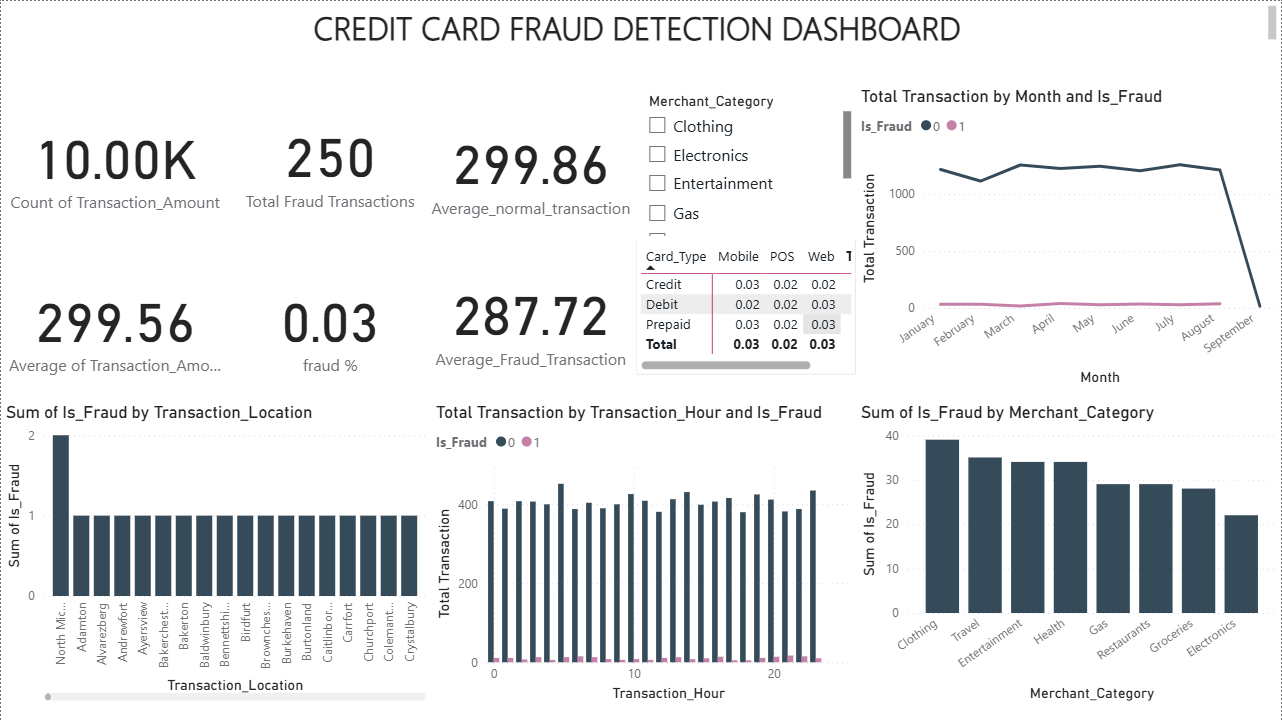

The dashboard page shown, as its layout file describes it:
{"tool":"powerbi","page":{"name":"Page 1","canvas":[1280,720],"ordinal":0},"visuals":[{"type":"card","fields":{"Values":["CountNonNull(credit_card_transactions.Transaction_Amount)"]},"box":[0,86.2,228.8,152.5],"z":0},{"type":"card","fields":{"Values":["credit_card_transactions.Total Fraud Transactions"]},"box":[228.8,85,201.2,152.5],"z":1000},{"type":"card","fields":{"Values":["credit_card_transactions.fraud %"]},"box":[228.8,250,201.2,151.2],"z":2000},{"type":"card","fields":{"Values":["Avg(credit_card_transactions.Transaction_Amount)"]},"box":[0,250,228.8,151.2],"z":3000},{"type":"columnChart","fields":{"Category":["credit_card_transactions.Merchant_Category"],"Y":["Sum(credit_card_transactions.Is_Fraud)"]},"box":[855,401.2,425,303.8],"z":4000},{"type":"lineChart","fields":{"Category":["credit_card_transactions.Transaction_Time.Variation.Date Hierarchy.Month","credit_card_transactions.Transaction_Time.Variation.Date Hierarchy.Day"],"Y":["credit_card_transactions.Total Transaction"],"Series":["credit_card_transactions.Is_Fraud"]},"box":[855,85,425,303.8],"z":5000},{"type":"lineClusteredColumnComboChart","fields":{"Category":["credit_card_transactions.Transaction_Hour"],"Y":["credit_card_transactions.Total Transaction"],"Series":["credit_card_transactions.Is_Fraud"]},"box":[430,401.2,425,303.8],"z":6000},{"type":"columnChart","fields":{"Category":["credit_card_transactions.Transaction_Location"],"Y":["Sum(credit_card_transactions.Is_Fraud)"]},"box":[0,401.2,430,303.8],"z":7000},{"type":"pivotTable","fields":{"Rows":["credit_card_transactions.Card_Type"],"Columns":["credit_card_transactions.Device_Type"],"Values":["credit_card_transactions.fraud %"]},"box":[635,238.8,220,135],"z":8000},{"type":"card","fields":{"Values":["credit_card_transactions.Average_normal_transaction"]},"box":[425,86.2,210,163.8],"z":8001},{"type":"card","fields":{"Values":["credit_card_transactions.Average_Fraud_Transaction"]},"box":[425,250,210,138.8],"z":8002},{"type":"slicer","fields":{"Values":["credit_card_transactions.Merchant_Category"]},"box":[635,86.2,220,153.8],"z":8003},{"type":"textbox","box":[0,0,1280,47.5],"z":8004}]}

Visuals, with their boxes in screenshot pixels (x1, y1, x2, y2), scaled from the page's 1280x720 canvas onto the 1282x720 screenshot:
card - CountNonNull(credit_card_transactions.Transaction_Amount): <box>0,86,229,239</box>
card - credit_card_transactions.Total Fraud Transactions: <box>229,85,431,238</box>
card - credit_card_transactions.fraud %: <box>229,250,431,401</box>
card - Avg(credit_card_transactions.Transaction_Amount): <box>0,250,229,401</box>
columnChart - credit_card_transactions.Merchant_Category x Sum(credit_card_transactions.Is_Fraud): <box>856,401,1281,705</box>
lineChart - credit_card_transactions.Transaction_Time.Variation.Date Hierarchy.Month x credit_card_transactions.Transaction_Time.Variation.Date Hierarchy.Day: <box>856,85,1281,389</box>
lineClusteredColumnComboChart - credit_card_transactions.Transaction_Hour x credit_card_transactions.Total Transaction: <box>431,401,856,705</box>
columnChart - credit_card_transactions.Transaction_Location x Sum(credit_card_transactions.Is_Fraud): <box>0,401,431,705</box>
pivotTable - credit_card_transactions.Card_Type x credit_card_transactions.Device_Type: <box>636,239,856,374</box>
card - credit_card_transactions.Average_normal_transaction: <box>426,86,636,250</box>
card - credit_card_transactions.Average_Fraud_Transaction: <box>426,250,636,389</box>
slicer - credit_card_transactions.Merchant_Category: <box>636,86,856,240</box>
textbox: <box>0,0,1281,48</box>
